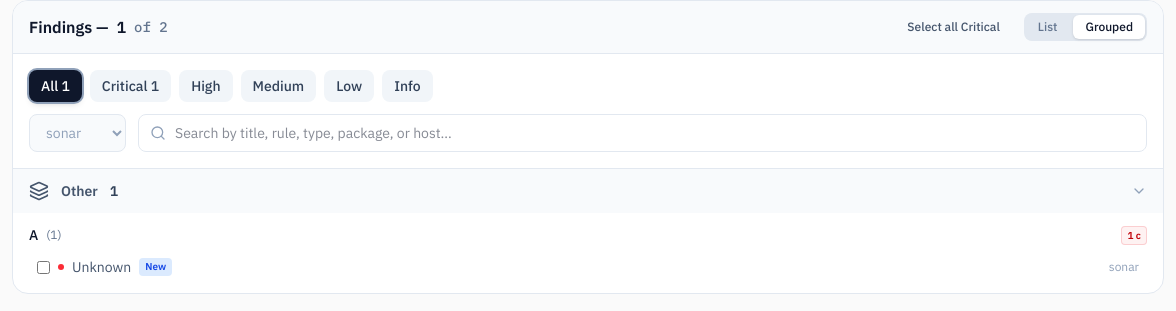
it: New badge: findings absent from the previous scan set are badged
The image size is (1176, 311).
Click the button "List" at (1048, 27), box [1026,15,1070,39]
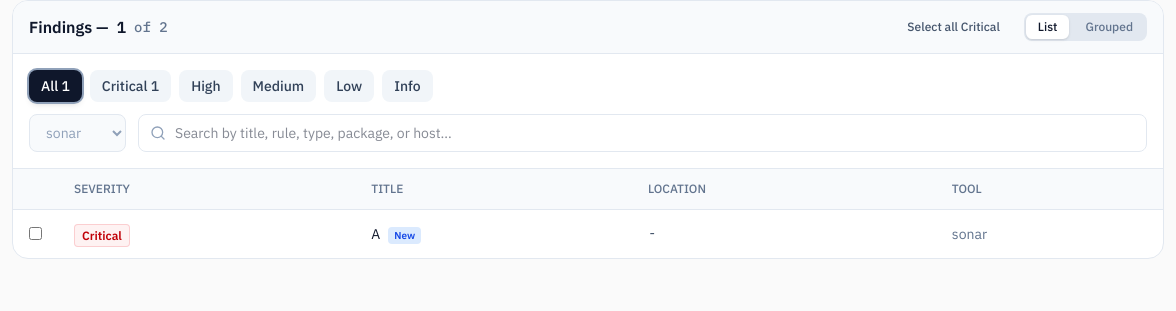
Expected: the text "New" is shown, [388,227,421,244]
Result: the text "a" is shown at [371,225,380,243]
